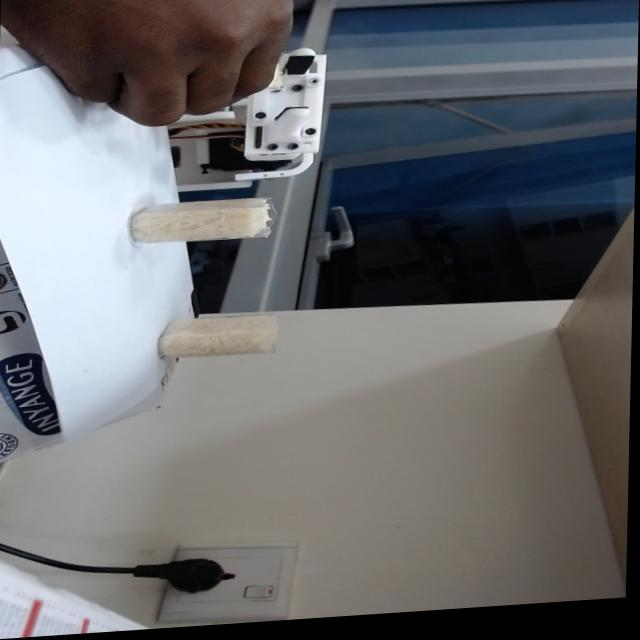raw_rice: (131, 202, 273, 247), (161, 318, 283, 362)
